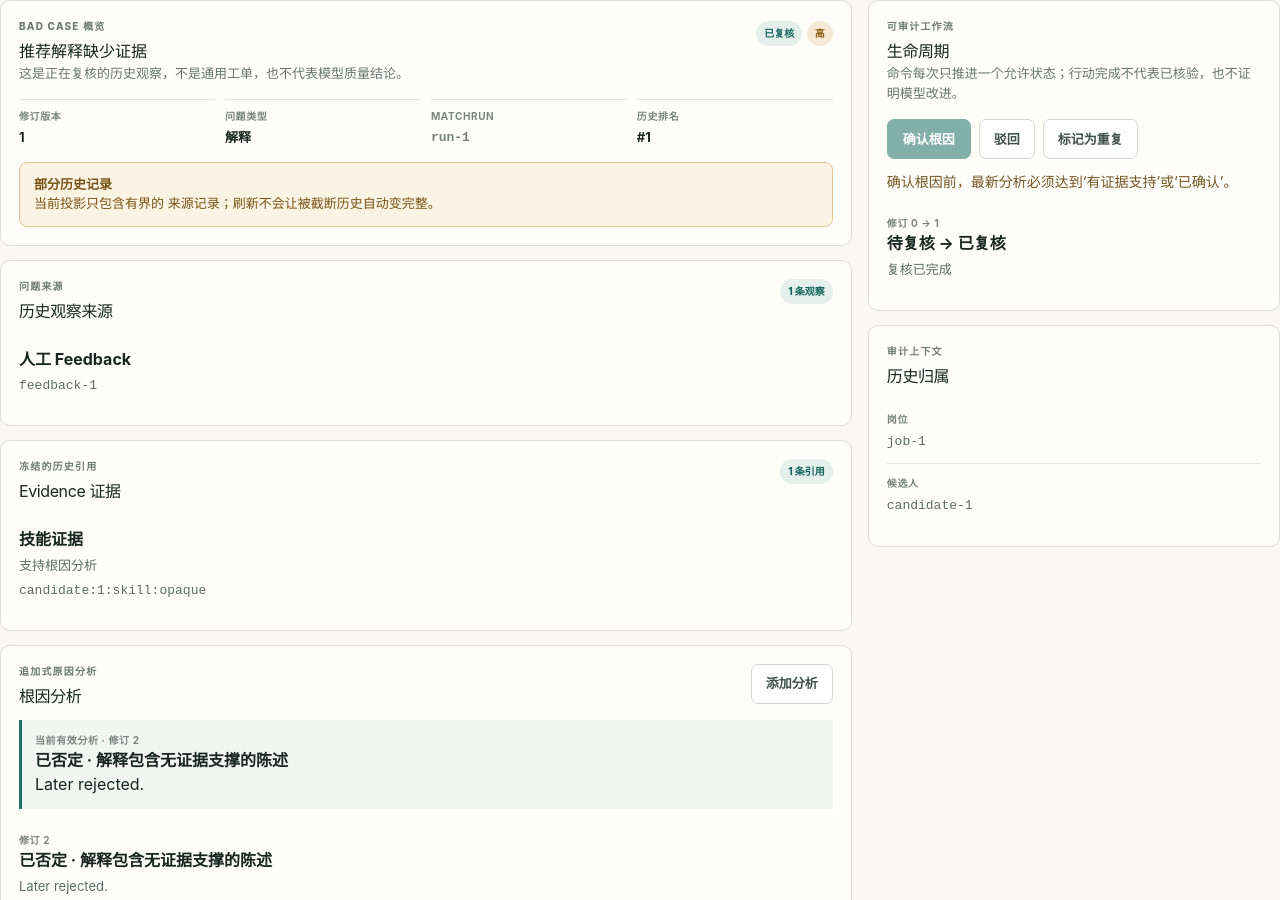
it: BadCase screens › keeps a semantic 422 beside the active command without exposing raw data
Expected: the element labelled "当前有效分析" is shown, [19,720,833,809]
Click the button "添加分析" at (792, 684), box [751,664,833,704]
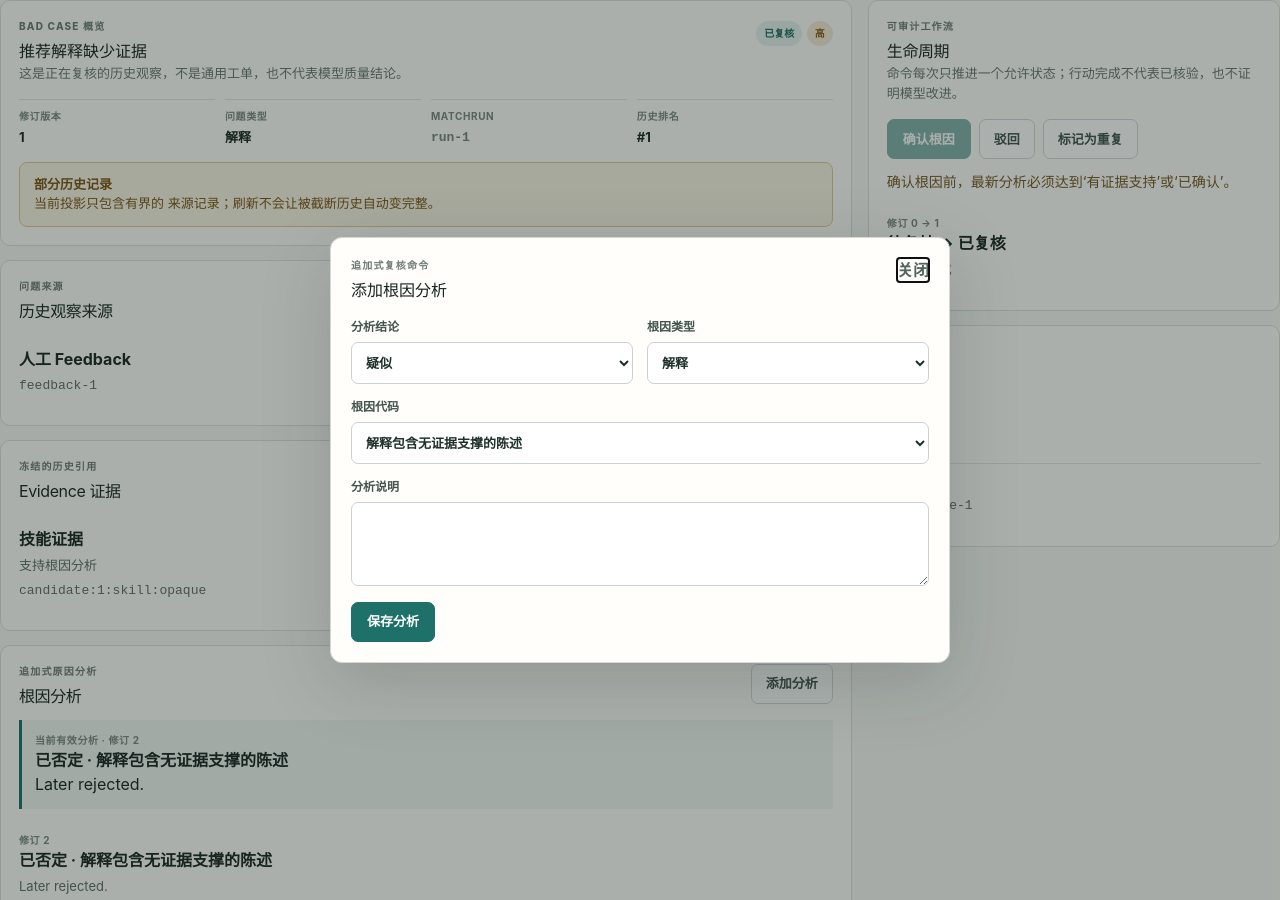
Type "Bounded semantic test" into the text box labelled "分析说明" at (640, 544), box [351,502,929,586]
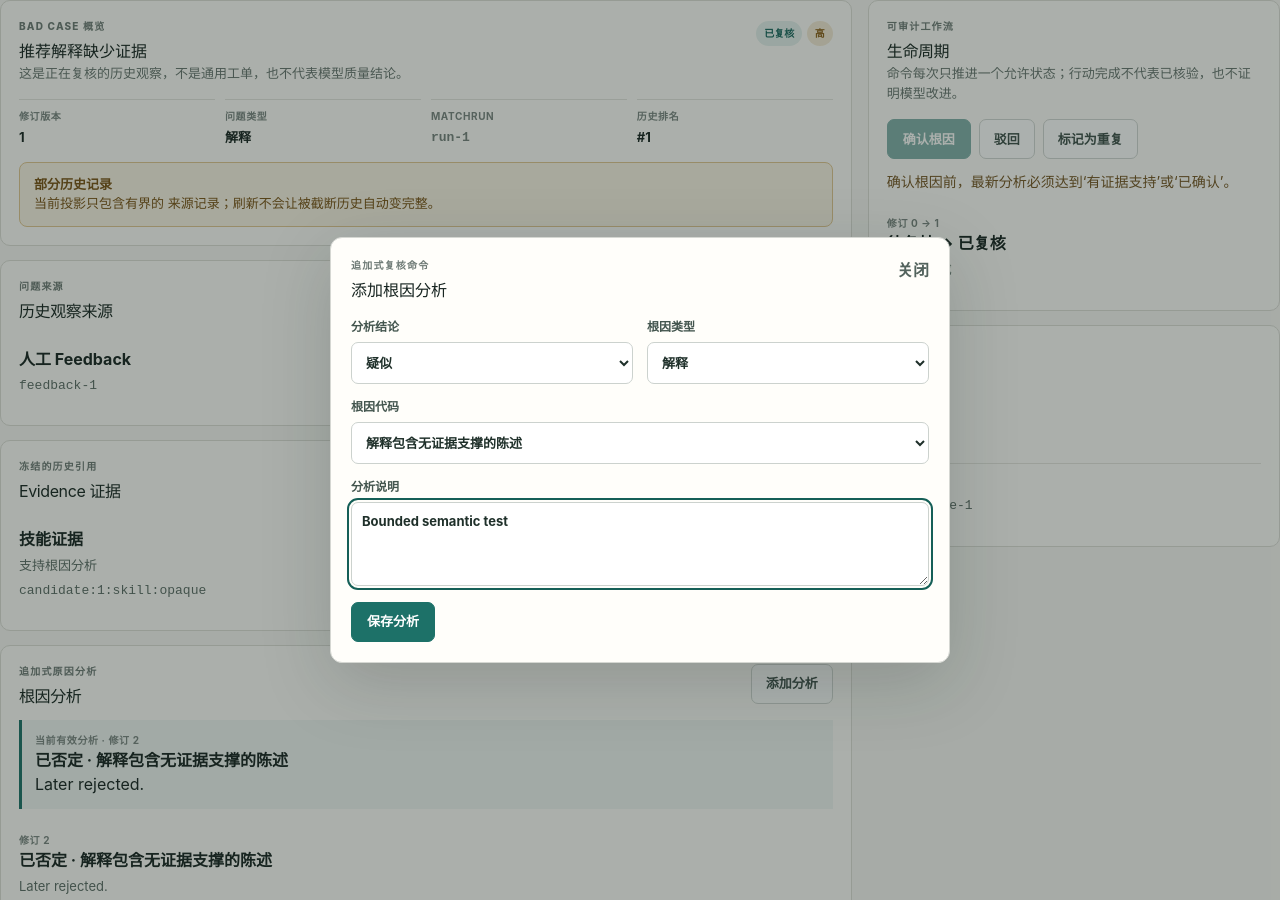
Click the button "保存分析" at (393, 622), box [351,602,435,642]
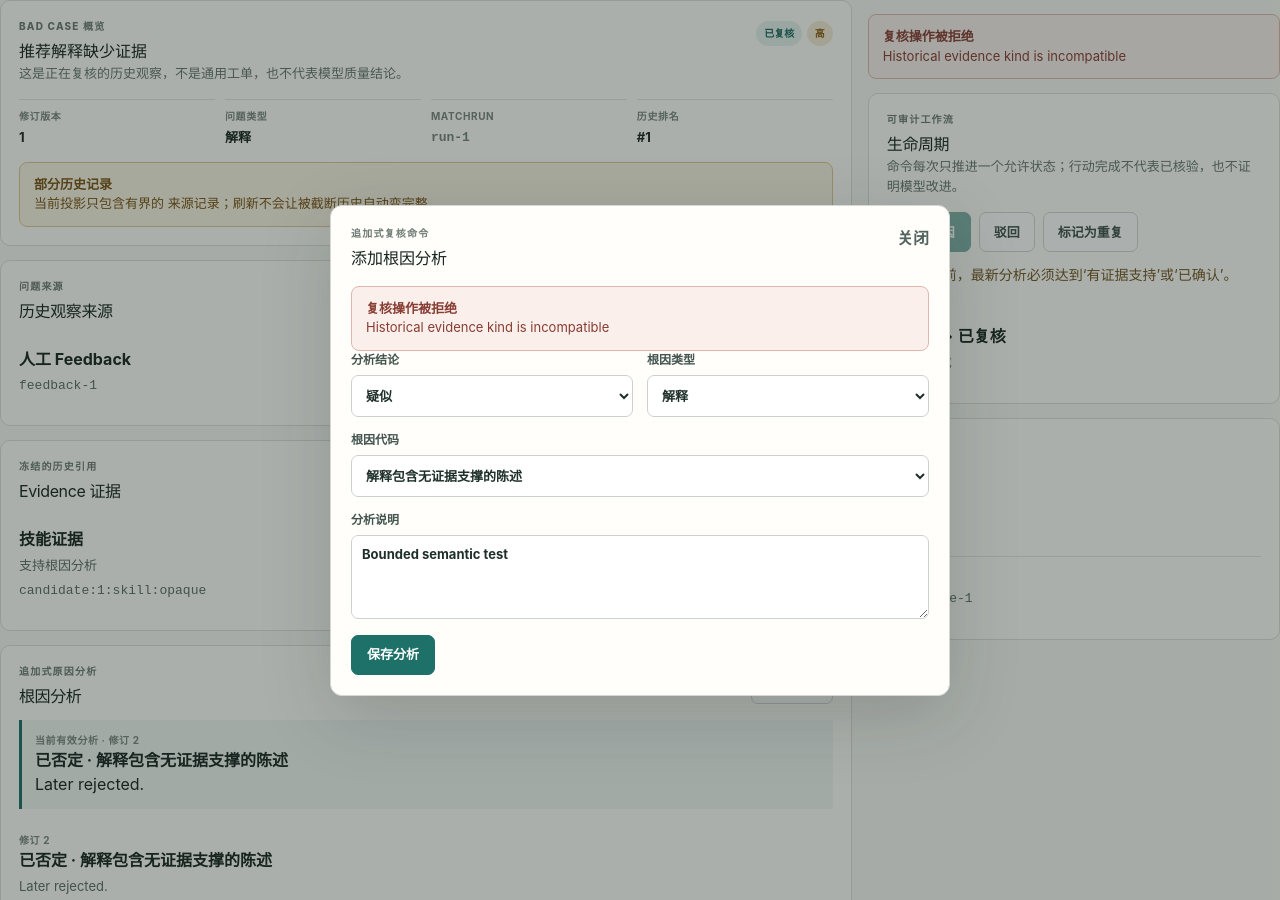
Expected: the message shows "Historical evidence kind is incompatible", [366,319,609,335]
